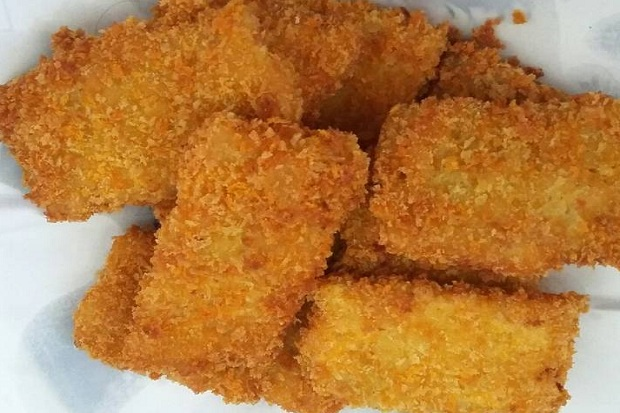Tempe: (115, 140, 354, 369), (358, 104, 620, 274), (290, 284, 589, 413)
